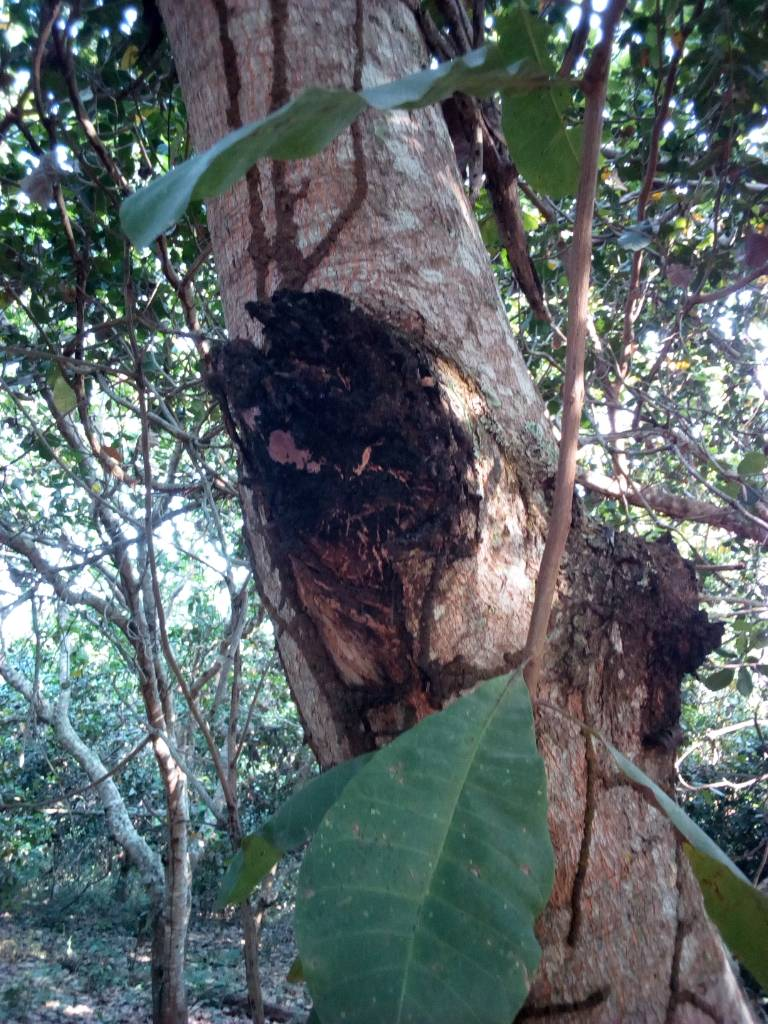Termites: (207, 1, 371, 269), (266, 585, 454, 716)
